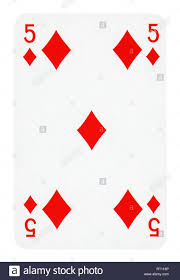five of diamonds: (12, 12, 168, 247)
